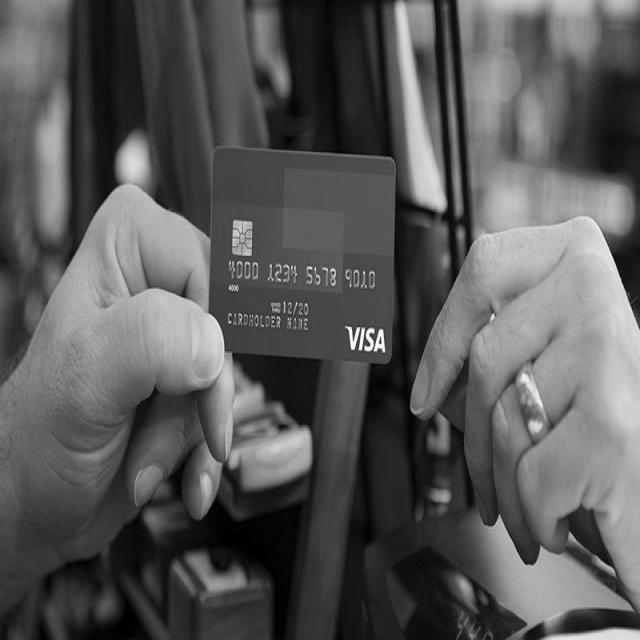card: (202, 144, 406, 368)
